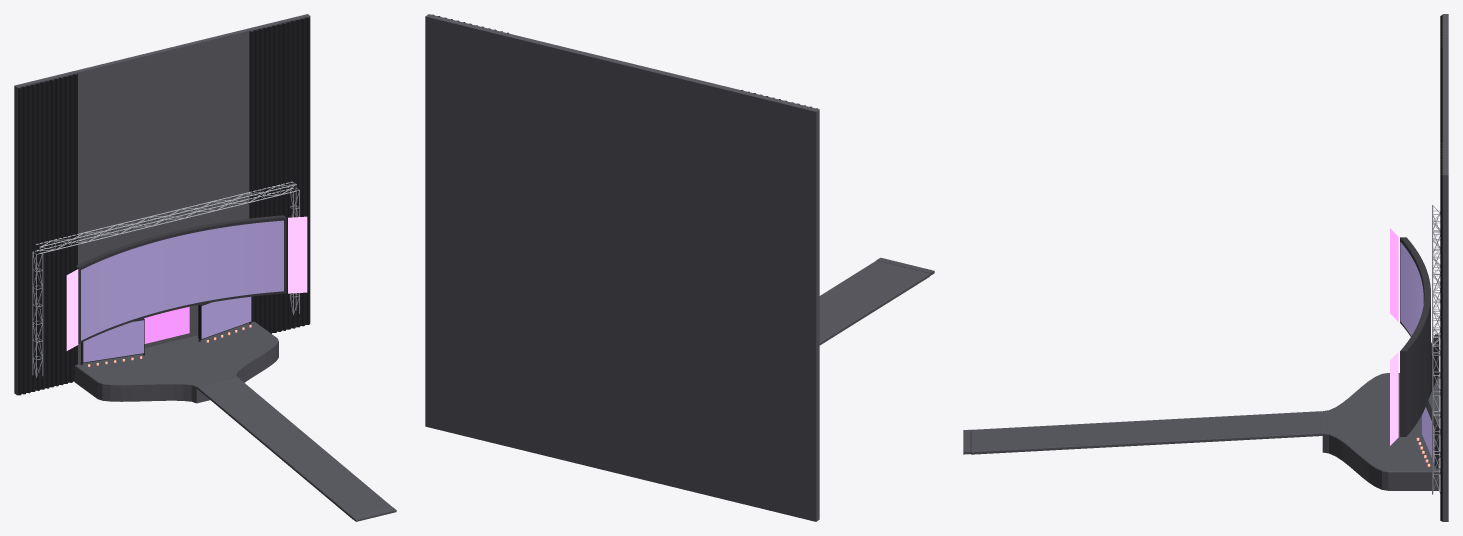
File: entrance_set.glb
3 views of the same model, side by side, from view 1: azimuth 30°, elevation 25°; view 2: azimuth 150°, elevation 25°; view 3: azimuth 270°, elevation 25° (orthographic). The views are drawn at different scales.
Parts seen in each view (by area): view 1: StageBackdrop, StageDrape, EntranceStage, StageScreen, StageTruss, StageSideScreens, StageScreenWings, StageScreenBezel, StageCentreScreen, StageSideScreenFrame; view 2: StageBackdrop, EntranceStage; view 3: EntranceStage, StageScreenBezel, StageBackdrop, StageTruss, StageScreen, StageScreenWings, StageDrape, StageSideScreenFrame.
Boxes of the visible parts, bbox=[...] form: StageBackdrop: bbox=[14, 14, 310, 394]; StageDrape: bbox=[17, 17, 310, 395]; EntranceStage: bbox=[74, 321, 396, 521]; StageScreen: bbox=[81, 220, 283, 340]; StageTruss: bbox=[32, 181, 299, 377]; StageSideScreens: bbox=[83, 296, 251, 362]; StageScreenWings: bbox=[66, 216, 307, 350]; StageScreenBezel: bbox=[76, 215, 286, 343]; StageCentreScreen: bbox=[144, 306, 189, 343]; StageSideScreenFrame: bbox=[80, 297, 251, 364]; StageBackdrop: bbox=[425, 14, 819, 521]; EntranceStage: bbox=[819, 257, 934, 345]; EntranceStage: bbox=[963, 373, 1439, 490]; StageScreenBezel: bbox=[1400, 237, 1430, 436]; StageBackdrop: bbox=[1442, 14, 1448, 521]; StageTruss: bbox=[1432, 205, 1440, 494]; StageScreen: bbox=[1400, 242, 1423, 335]; StageScreenWings: bbox=[1390, 228, 1398, 445]; StageDrape: bbox=[1440, 15, 1442, 521]; StageSideScreenFrame: bbox=[1422, 334, 1439, 468].
Size of the model in its own units: 26.04 by 26.28 by 33.1.
